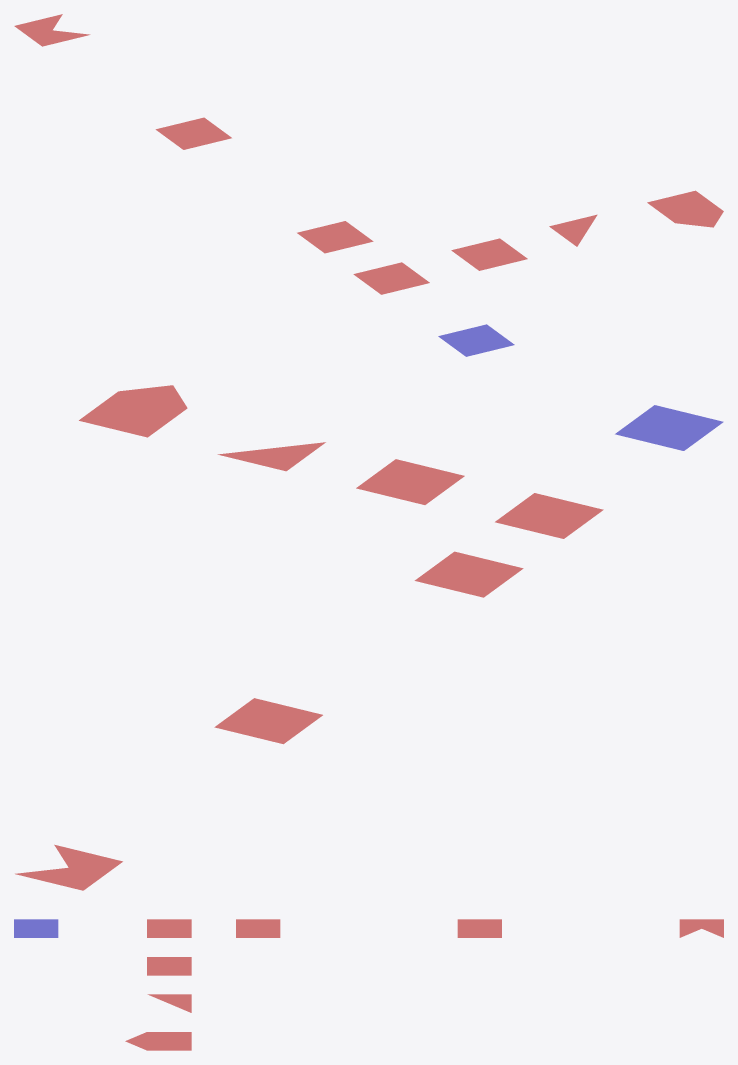
The model's file is prueba_gltf_quads.gltf.
3 renders of one model, top to bottom at view 1: azimuth 30°, elevation 25°; view 2: azimuth 150°, elevation 25°; view 3: azimuth 270°, elevation 25°, orthographic. The views are drawn at different scales.
Parts seen in each view (by area): view 1: Poligonos, SinExtras, CuentaMal, Degenerado; view 2: Poligonos, CuentaMal, SinExtras, Degenerado; view 3: Poligonos, SinExtras, CuentaMal, Degenerado.
Boxes of the visible parts, x1,y1,x2,y2 form: Poligonos: (353,190,723,356); SinExtras: (297,221,373,253); CuentaMal: (155,117,231,149); Degenerado: (14,14,90,46); Poligonos: (79,385,723,538); CuentaMal: (214,698,322,744); SinExtras: (414,551,523,597); Degenerado: (15,844,122,890); Poligonos: (14,919,191,1050); SinExtras: (236,919,280,937); CuentaMal: (457,919,501,937); Degenerado: (679,919,723,937).
Size of the model in its own units: 7 by 0 by 16.
